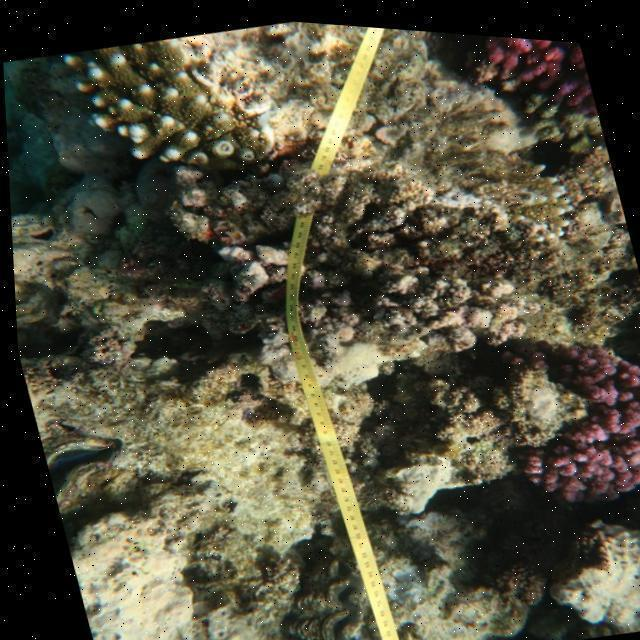Healthy Coral: (495, 308, 640, 517), (461, 28, 599, 135)
